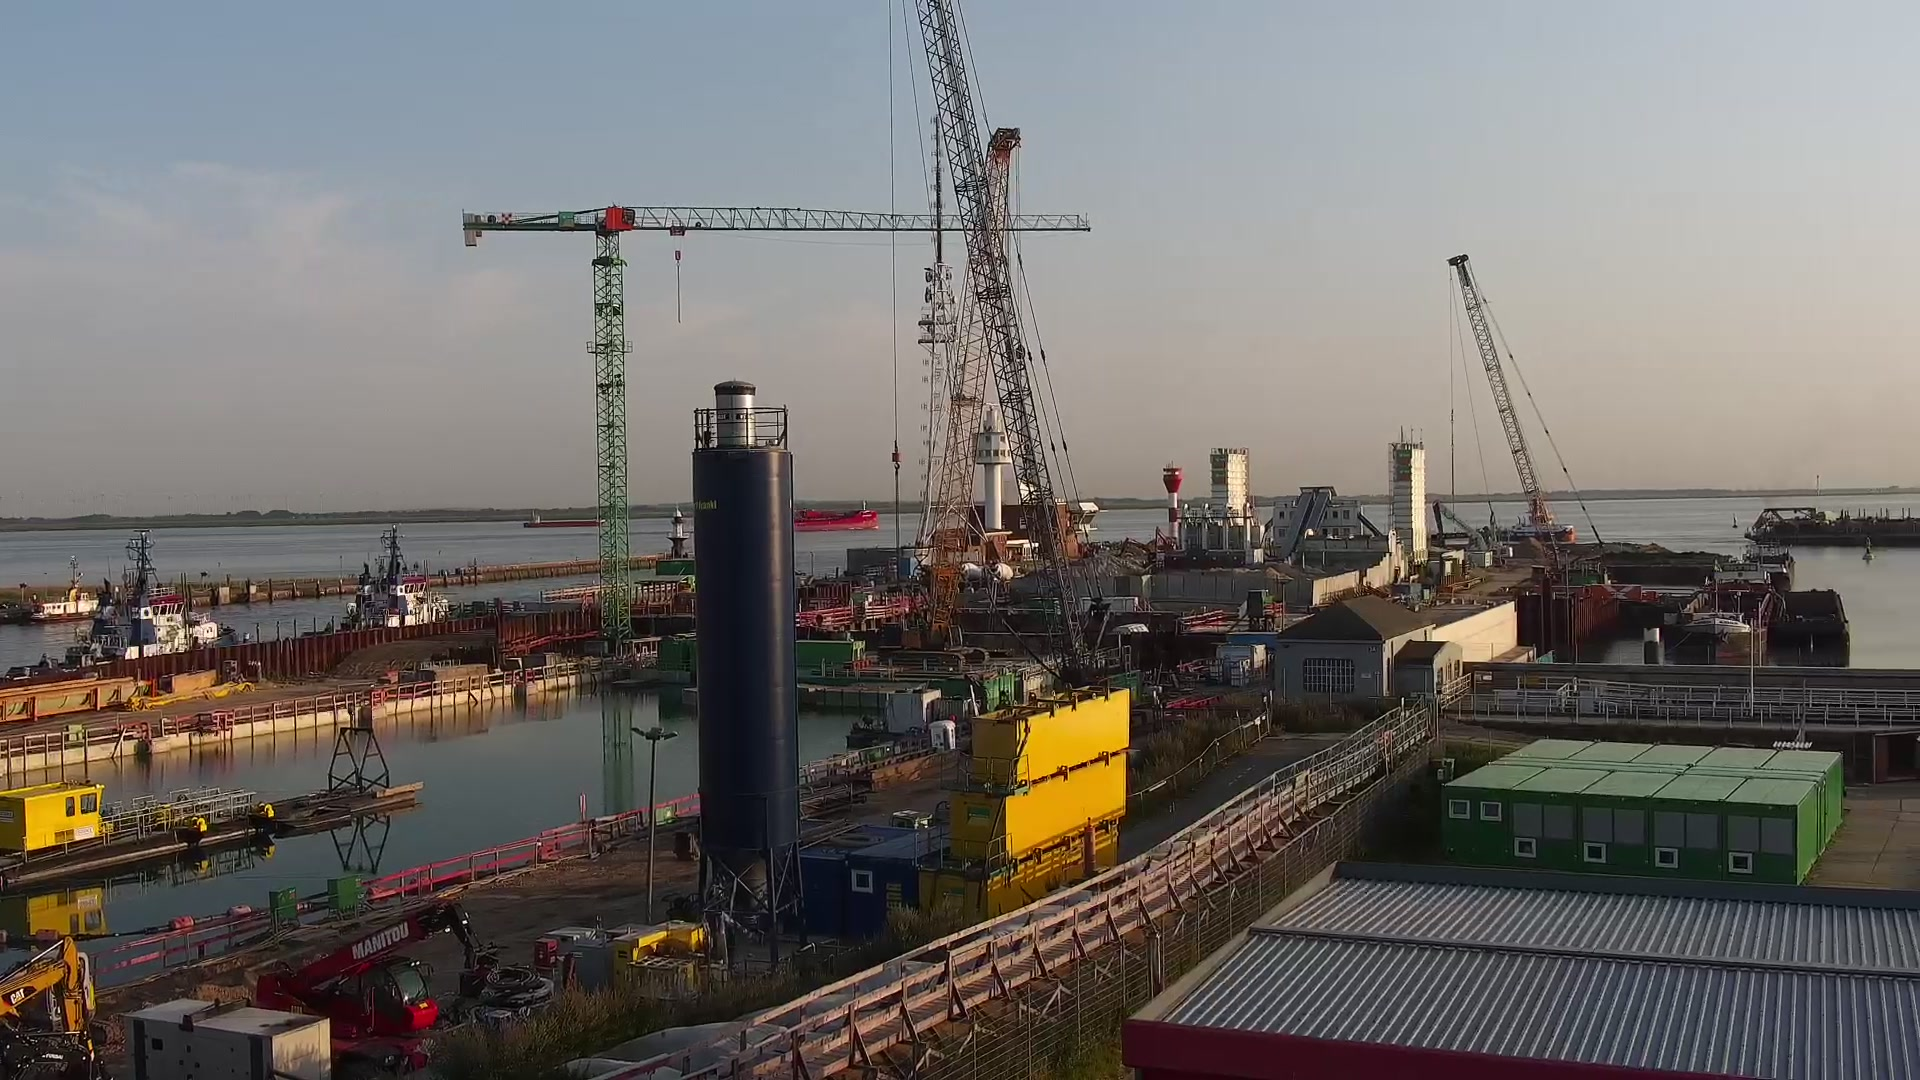sea: (1, 529, 240, 680), (301, 524, 462, 634), (1675, 560, 1778, 655), (1745, 506, 1920, 546), (18, 554, 100, 626), (793, 498, 880, 531), (1741, 545, 1797, 589), (524, 508, 607, 527)
